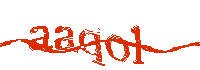a: (54, 25, 76, 52), (30, 25, 50, 53)
l: (130, 25, 145, 65)
o: (106, 32, 130, 63)
q: (79, 28, 105, 67)
